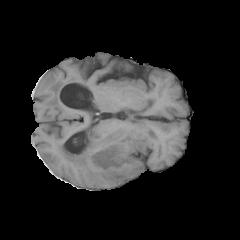glioma: (46, 81, 158, 183)
